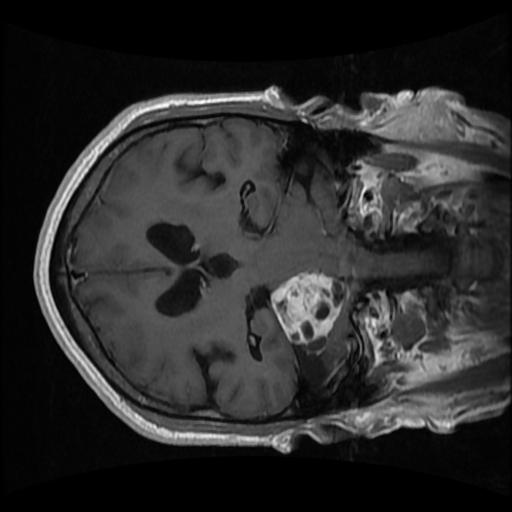meningioma: (269, 271, 346, 345)
